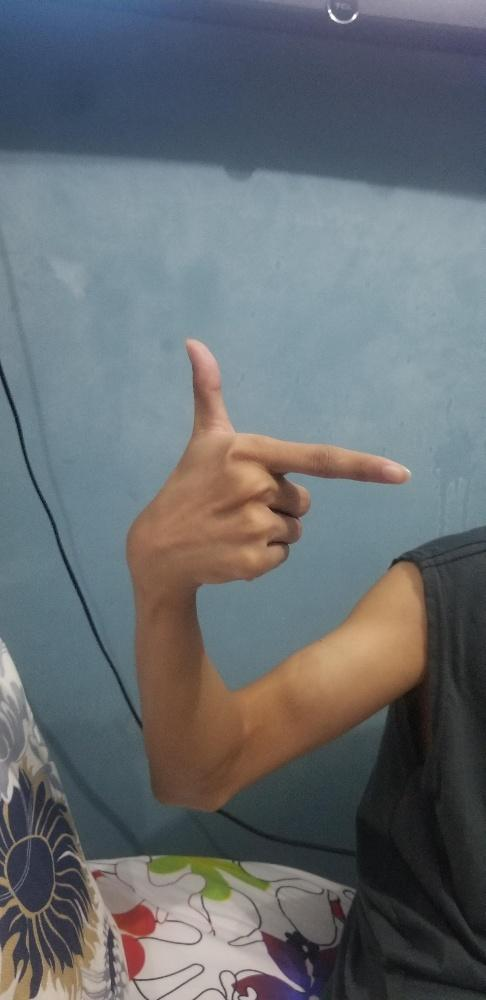g: (121, 334, 412, 589)
